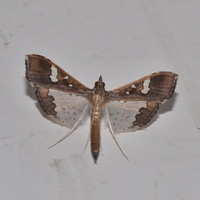insect: (25, 54, 177, 162)
